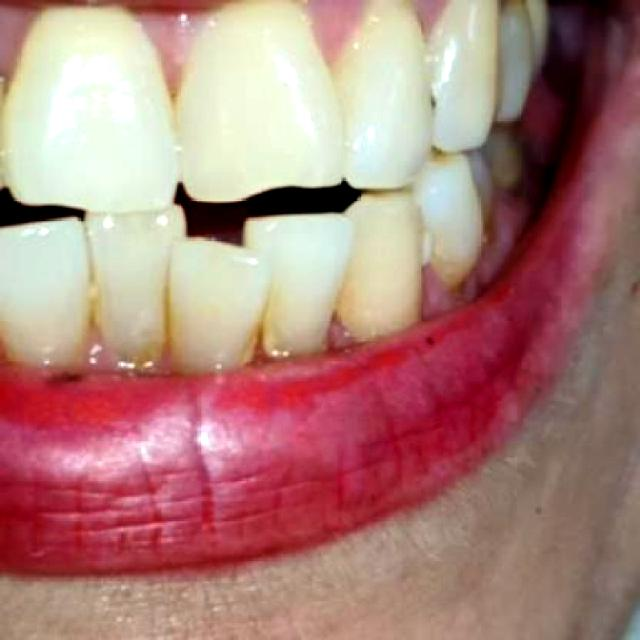Plaque: (422, 186, 521, 318), (239, 332, 276, 370), (418, 83, 445, 118), (330, 320, 352, 347)
